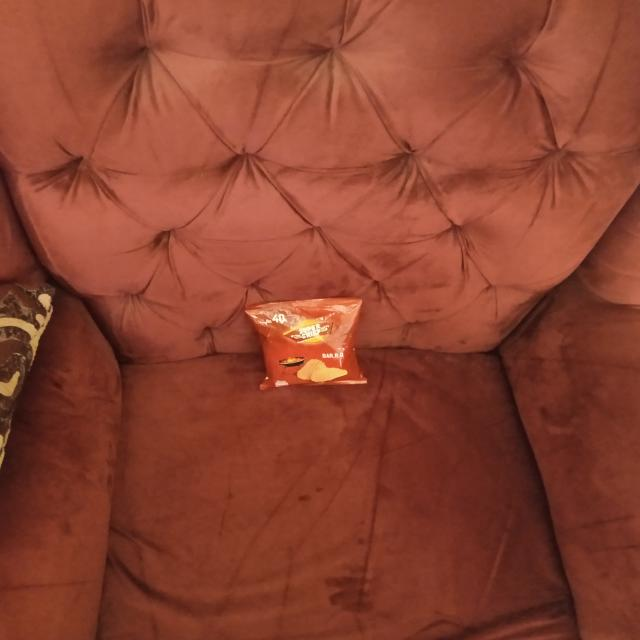Plastic: (252, 300, 365, 386)
